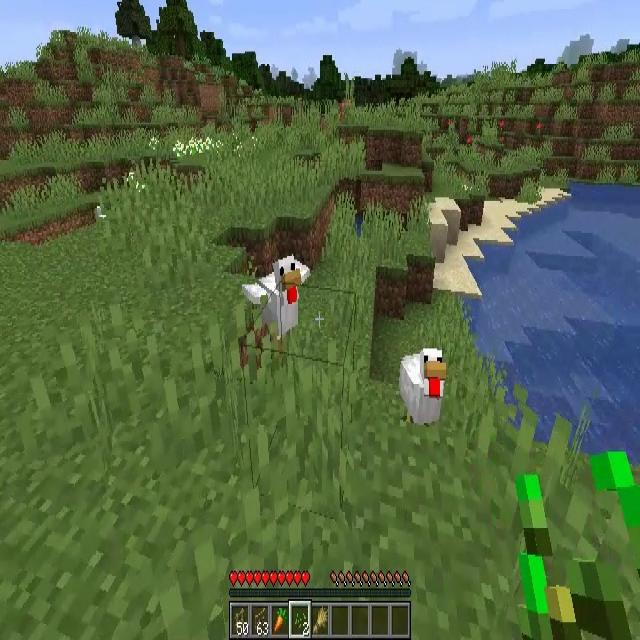duck: (243, 255, 313, 345), (400, 347, 446, 428)
